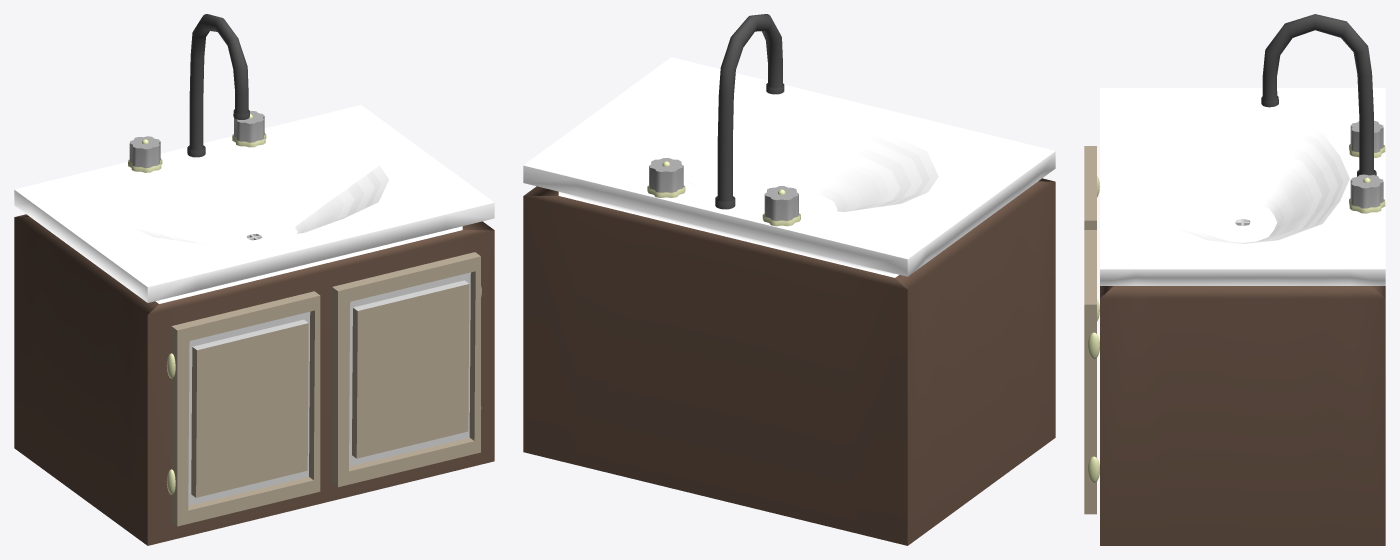
File: LAVABO.glb
3 views of the same model, side by side, from view 1: azimuth 30°, elevation 25°; view 2: azimuth 150°, elevation 25°; view 3: azimuth 270°, elevation 25° (orthographic). The views are drawn at different scales.
Parts seen in each view (by area): view 1: Cuerpo1, pasted__Puerta4, Puerta4, Grifo1, pasted__pCylinder1, pCylinder1; view 2: Cuerpo1, Grifo1, pCylinder1, pasted__pCylinder1; view 3: Cuerpo1, Grifo1, Puerta4, pCylinder1, pasted__Puerta4, pasted__pCylinder1.
Part boxes in pixels (x1,y1,x2,y2): Cuerpo1: (14, 105, 494, 545); pasted__Puerta4: (171, 291, 320, 526); Puerta4: (332, 252, 480, 487); Grifo1: (187, 14, 249, 157); pasted__pCylinder1: (128, 136, 162, 172); pCylinder1: (232, 111, 266, 147); Cuerpo1: (523, 57, 1055, 545); Grifo1: (715, 14, 784, 209); pCylinder1: (647, 158, 685, 197); pasted__pCylinder1: (762, 186, 800, 226); Cuerpo1: (1100, 88, 1385, 545); Grifo1: (1261, 14, 1376, 176); Puerta4: (1084, 230, 1096, 514); pCylinder1: (1349, 174, 1385, 213); pasted__Puerta4: (1084, 146, 1096, 229); pasted__pCylinder1: (1349, 120, 1385, 157).
Size of the model in its own units: 10.49 by 11.91 by 7.37.
